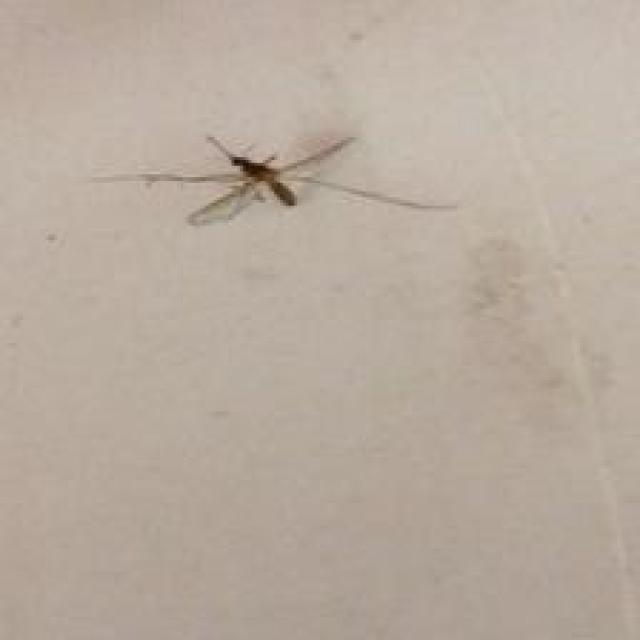Culex: (92, 132, 457, 228)
